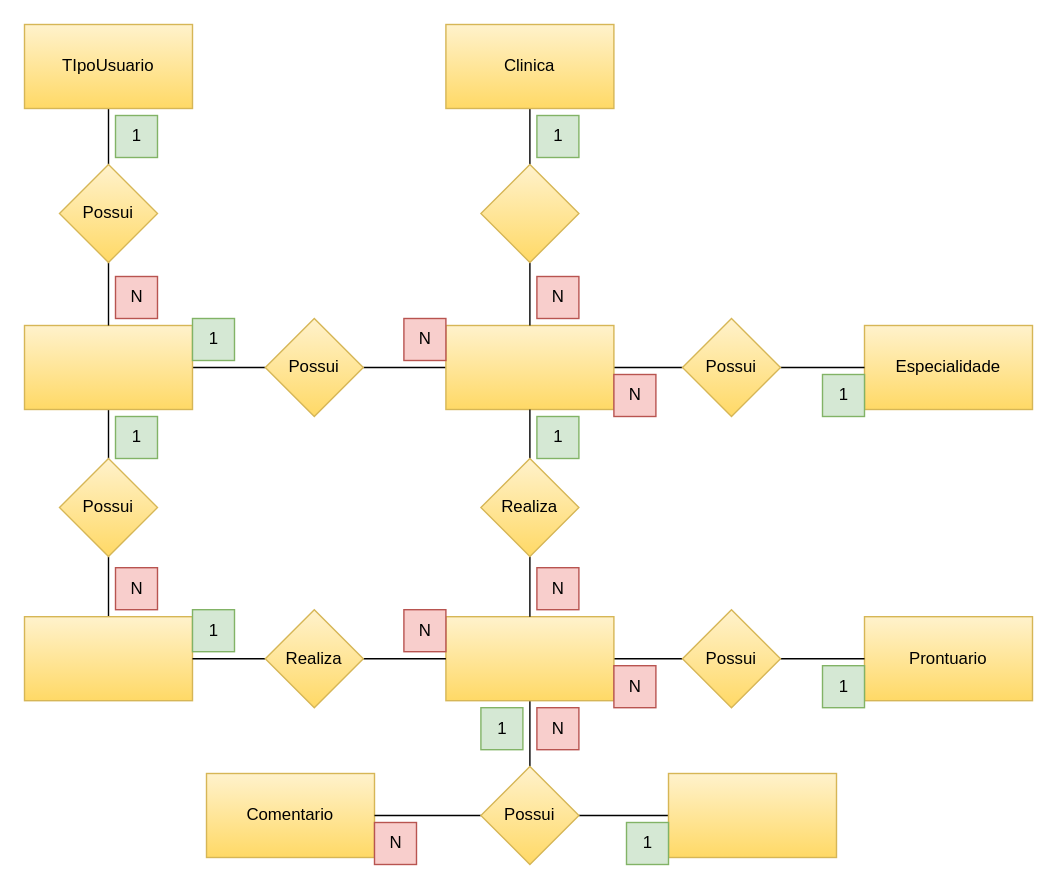
Image size: 1057x889. Some labels were removed from this diagram. The shapes that lost their labels are listed below. From the top down, each one's centre as x and y in pixels, then its label:
(x=529, y=212): Pertence
(x=107, y=367): Usuario
(x=529, y=367): Medico
(x=107, y=658): Paciente
(x=529, y=658): Consulta
(x=751, y=815): Status
